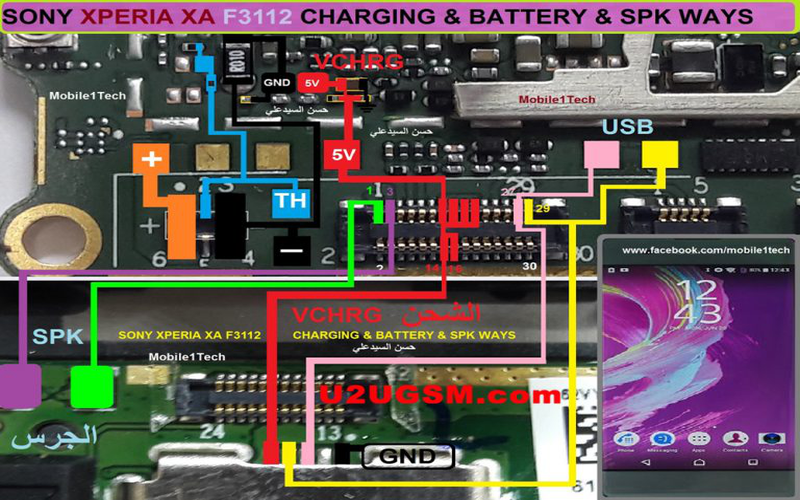Cirtuit-Board: (10, 24, 800, 289), (1, 275, 599, 500)
